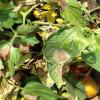Tomato leaf late blight: (44, 22, 87, 88), (16, 81, 66, 99), (56, 1, 86, 30), (0, 38, 19, 78)
